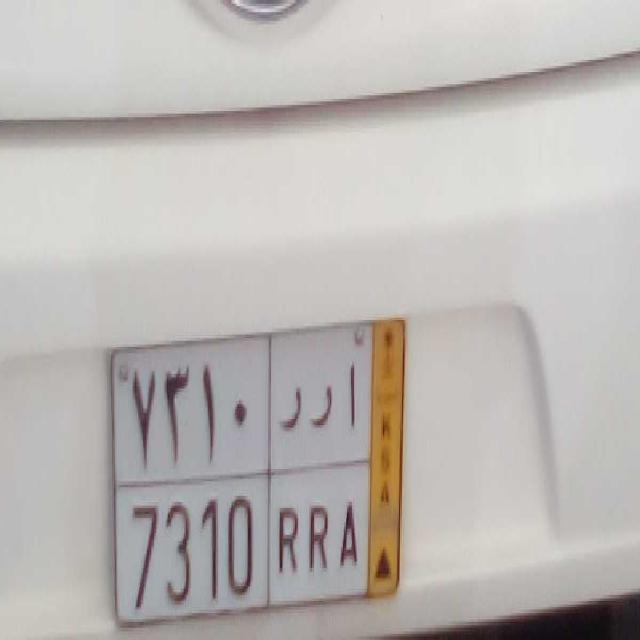license_plate: (114, 474, 369, 617)
